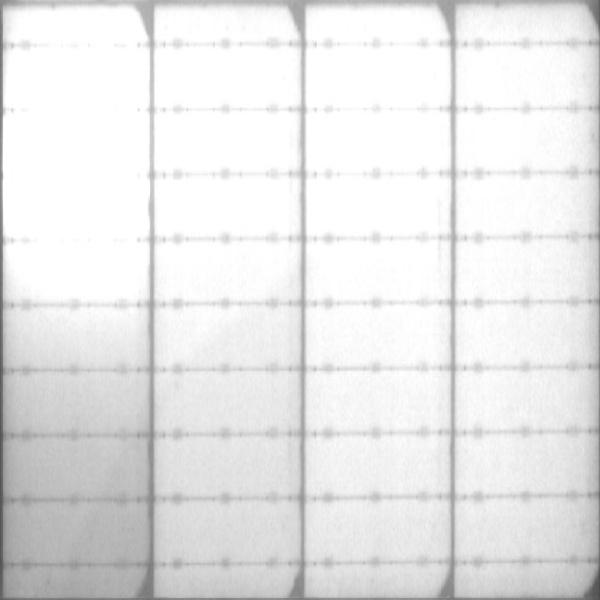hot_spot: (30, 54, 135, 299), (156, 48, 295, 108), (313, 51, 444, 104), (159, 116, 290, 168), (316, 117, 445, 168), (319, 185, 443, 233), (170, 182, 291, 228), (7, 115, 28, 237), (27, 15, 136, 38), (11, 53, 28, 108)
